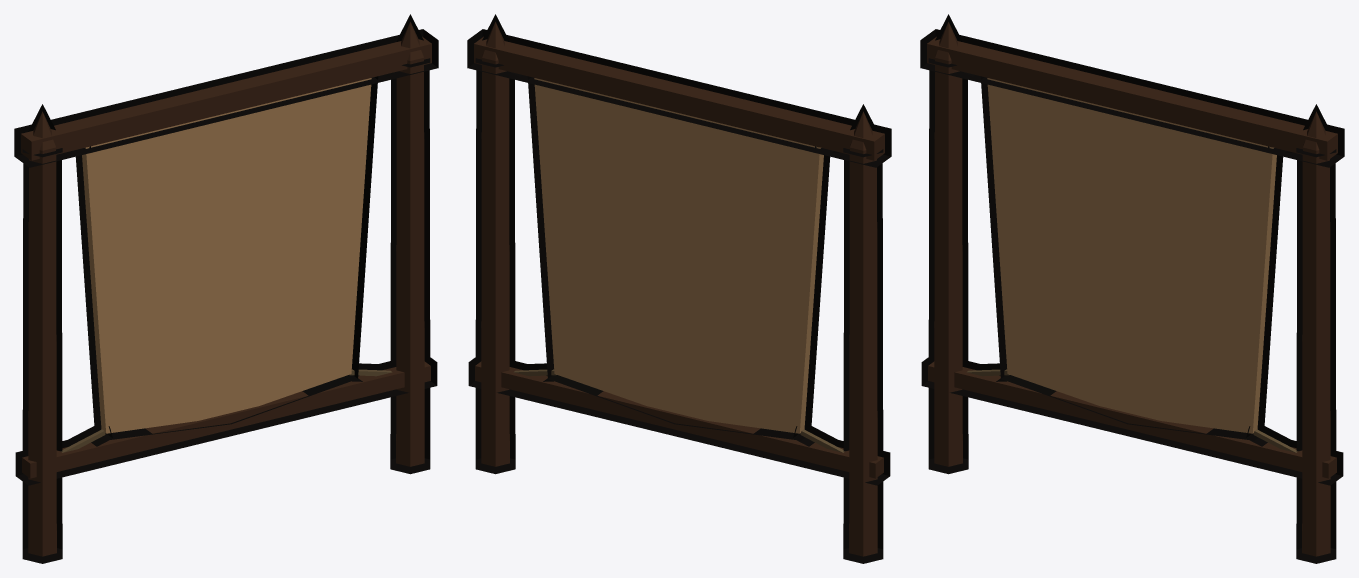
The model's file is stretcher.glb.
3 views of the same model, side by side, from view 1: azimuth 30°, elevation 25°; view 2: azimuth 150°, elevation 25°; view 3: azimuth 330°, elevation 25° (orthographic).
Parts seen in each view (by area): view 1: Hide, Prop_hearth_stretcher; view 2: Hide, Prop_hearth_stretcher; view 3: Hide, Prop_hearth_stretcher.
Boxes of the visible parts, x1,y1,x2,y2 form: Hide: (61, 72, 396, 452); Prop_hearth_stretcher: (14, 14, 438, 563); Hide: (509, 72, 844, 452); Prop_hearth_stretcher: (467, 14, 891, 563); Hide: (962, 72, 1297, 452); Prop_hearth_stretcher: (920, 14, 1344, 563).
Size of the model in its own units: 2 by 2.11 by 0.1693.
